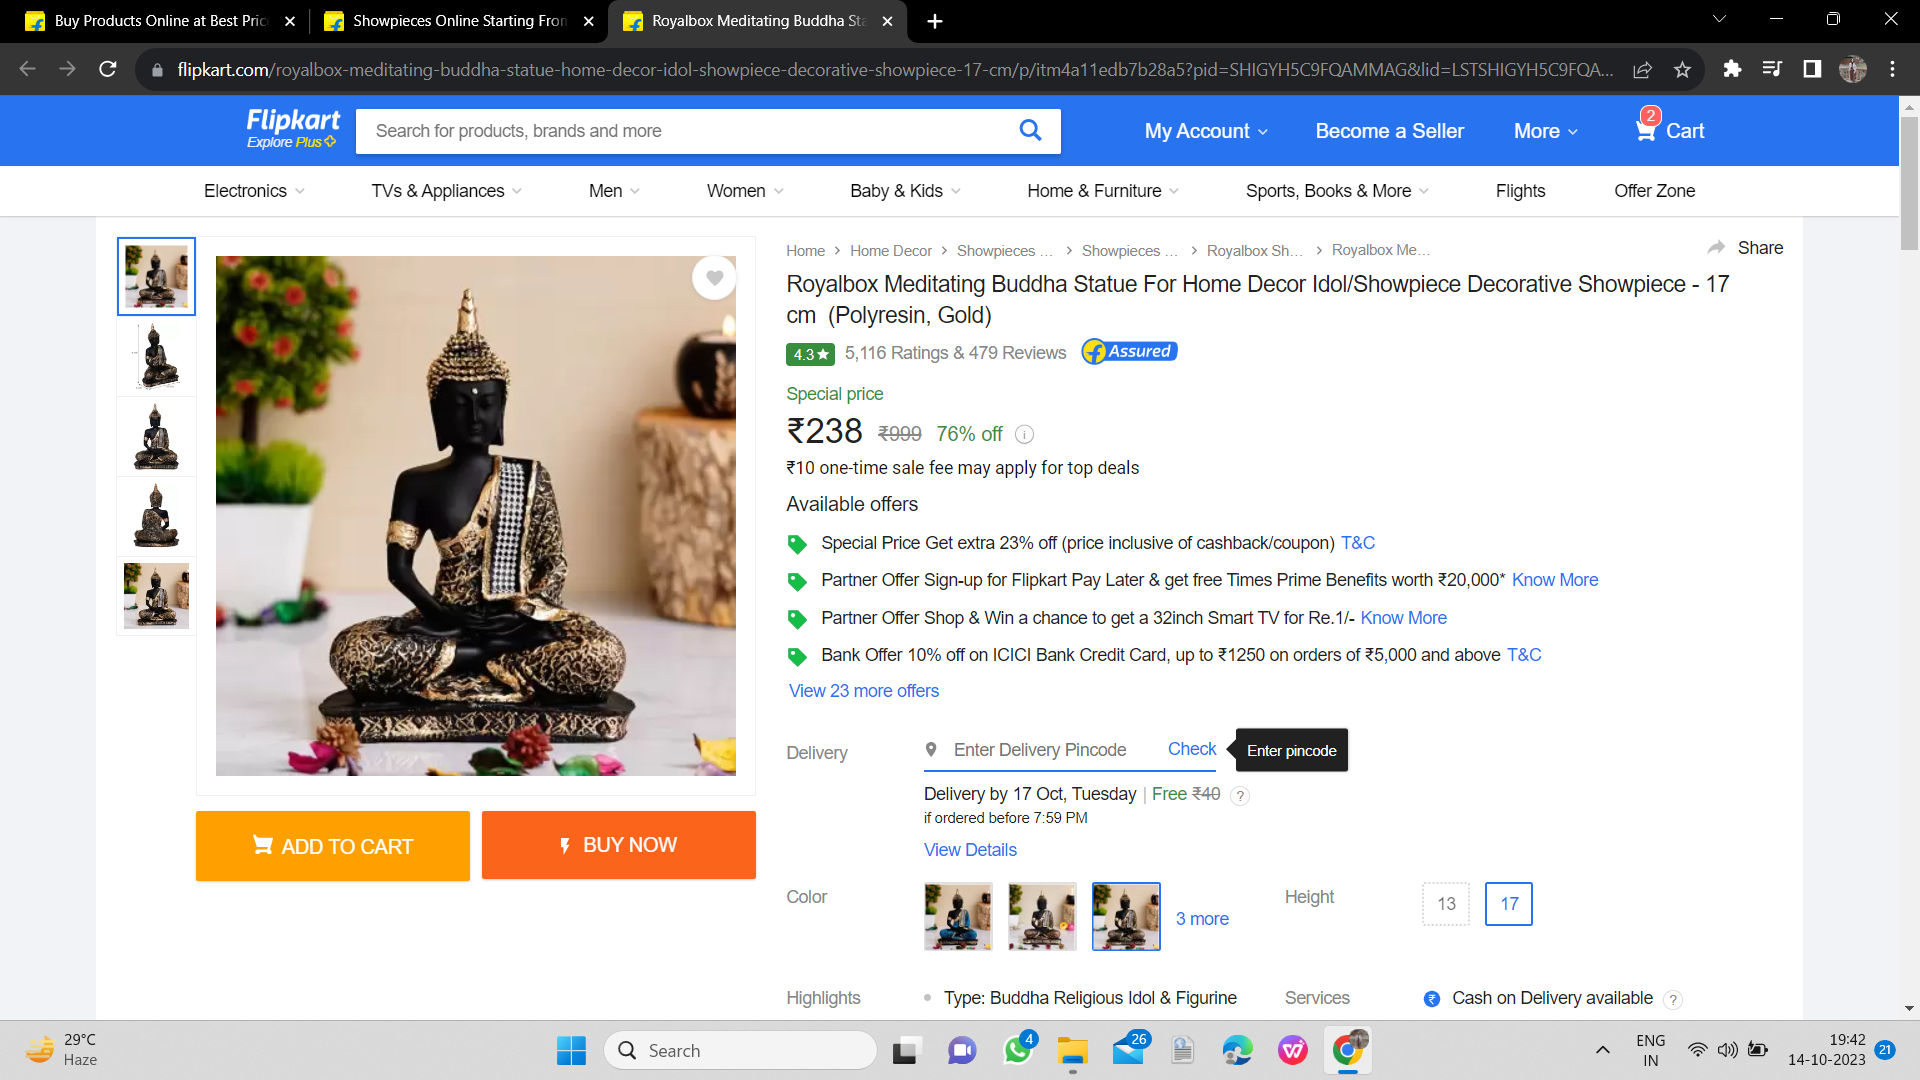Image: (220, 256, 738, 773), (913, 880, 1237, 957)
Paragraph: (775, 538, 1621, 700), (775, 266, 1758, 327), (182, 806, 766, 882), (1113, 94, 1724, 156), (1275, 873, 1552, 944), (779, 976, 1255, 1017), (916, 733, 1361, 771), (778, 380, 1014, 448), (1282, 976, 1668, 1010), (779, 342, 1203, 369), (778, 455, 1151, 483), (913, 775, 1142, 806), (775, 489, 938, 513), (786, 738, 852, 769), (775, 890, 851, 913)
